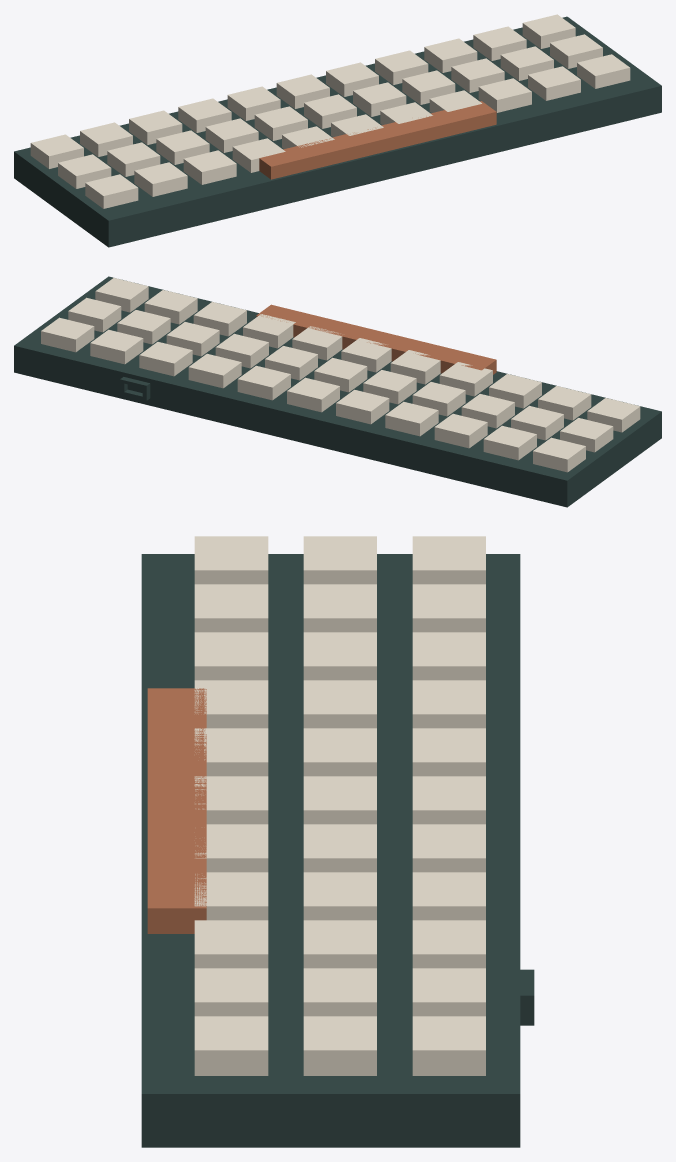
3 renders of one model, top to bottom at view 1: azimuth 30°, elevation 25°; view 2: azimuth 150°, elevation 25°; view 3: azimuth 270°, elevation 25°, orthographic. The views are drawn at different scales.
Visible parts, largest first — view 1: body0, spacebar, key0-2-2, key0-2-10, key0-2-0, key0-2-1, key0-2-8, key0-2-9, key0-0-4, key0-0-9, key0-0-10, key0-1-4 (+23 smaller); view 2: body0, spacebar, key0-0-10, key0-0-2, key0-0-3, key0-0-4, key0-0-7, key0-0-8, key0-0-9, key0-0-1, key0-0-6, key0-0-0 (+23 smaller); view 3: body0, spacebar, key0-2-10, key0-0-10, key0-1-10, key0-2-0, key0-2-1, key0-2-2, key0-2-8, key0-2-9, key0-0-0, key0-0-1 (+23 smaller).
Part boxes in pixels (x1=…): body0: x1=14, y1=16, x2=661, y2=247; spacebar: x1=259, y1=101, x2=496, y2=179; key0-2-2: x1=183, y1=150, x2=236, y2=184; key0-2-10: x1=577, y1=54, x2=630, y2=88; key0-2-0: x1=85, y1=174, x2=138, y2=208; key0-2-1: x1=134, y1=162, x2=187, y2=196; key0-2-8: x1=478, y1=78, x2=531, y2=112; key0-2-9: x1=528, y1=66, x2=580, y2=100; key0-0-4: x1=227, y1=86, x2=280, y2=120; key0-0-9: x1=473, y1=26, x2=526, y2=60; key0-0-10: x1=522, y1=14, x2=575, y2=48; key0-1-4: x1=254, y1=106, x2=307, y2=140; body0: x1=14, y1=276, x2=661, y2=507; spacebar: x1=256, y1=304, x2=496, y2=374; key0-0-10: x1=41, y1=317, x2=94, y2=352; key0-0-2: x1=434, y1=413, x2=487, y2=448; key0-0-3: x1=385, y1=401, x2=438, y2=436; key0-0-4: x1=336, y1=389, x2=389, y2=424; key0-0-7: x1=188, y1=353, x2=241, y2=388; key0-0-8: x1=139, y1=342, x2=192, y2=376; key0-0-9: x1=90, y1=329, x2=143, y2=364; key0-0-1: x1=483, y1=425, x2=536, y2=460; key0-0-6: x1=237, y1=365, x2=290, y2=400; key0-0-0: x1=533, y1=437, x2=585, y2=472; body0: x1=141, y1=554, x2=520, y2=1147; spacebar: x1=147, y1=688, x2=206, y2=933; key0-2-10: x1=194, y1=1016, x2=268, y2=1075; key0-0-10: x1=412, y1=1016, x2=485, y2=1075; key0-1-10: x1=303, y1=1016, x2=376, y2=1075; key0-2-0: x1=194, y1=536, x2=268, y2=584; key0-2-1: x1=194, y1=584, x2=268, y2=632; key0-2-2: x1=194, y1=632, x2=268, y2=680; key0-2-8: x1=194, y1=920, x2=268, y2=968; key0-2-9: x1=194, y1=968, x2=268, y2=1016; key0-0-0: x1=412, y1=536, x2=485, y2=584; key0-0-1: x1=412, y1=584, x2=485, y2=632.
Bounding box in the file's own units: 0.54 × 0.037 × 0.166.
